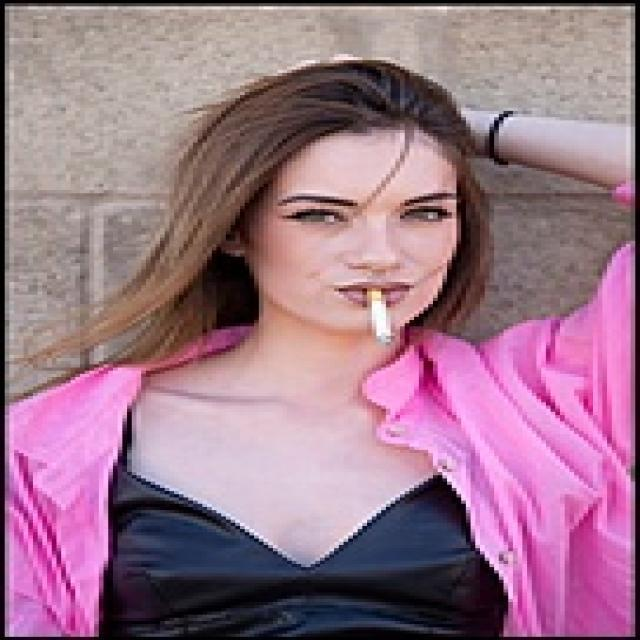rokok: (367, 286, 395, 346)
